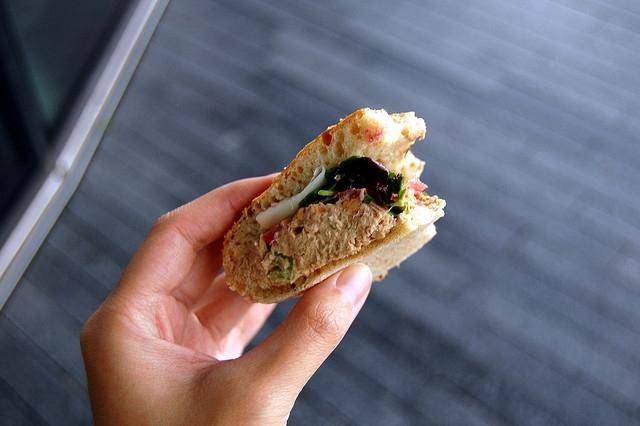lettuce: (332, 157, 392, 205), (267, 252, 295, 283), (379, 188, 407, 208)
